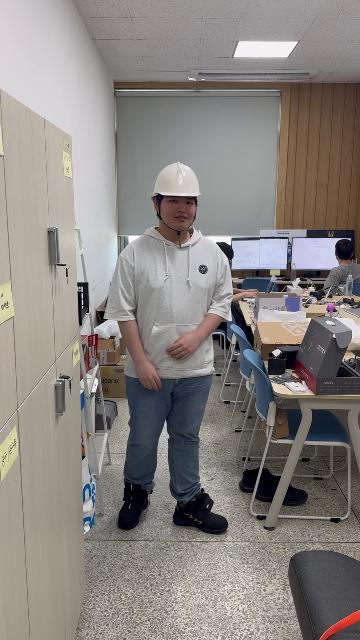helmet_worn: (151, 160, 203, 198)
shoe_not_worn: (240, 466, 306, 504), (239, 466, 273, 492)
shoe_worn: (173, 488, 228, 534), (116, 483, 152, 530)
vest_not_worn: (126, 233, 221, 383)
